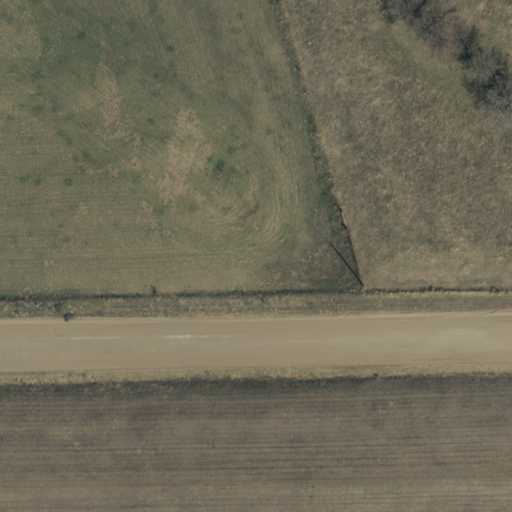DT: (352, 273, 373, 298)
